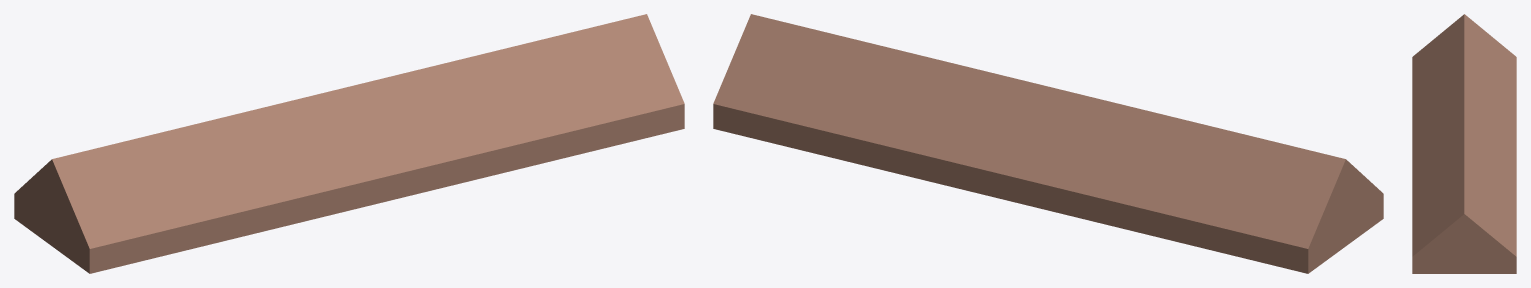
Rendered from ridge_cap.glb.
3 views of the same model, side by side, from view 1: azimuth 30°, elevation 25°; view 2: azimuth 150°, elevation 25°; view 3: azimuth 270°, elevation 25° (orthographic). The views are drawn at different scales.
Visible parts, largest first — view 1: ridge_cap_ridge; view 2: ridge_cap_ridge; view 3: ridge_cap_ridge.
Boxes of the visible parts, x1,y1,x2,y2 form: ridge_cap_ridge: (14,14,684,273); ridge_cap_ridge: (713,14,1383,273); ridge_cap_ridge: (1412,14,1516,273).
Size of the model in its own units: 2 by 0.28 by 0.44.
